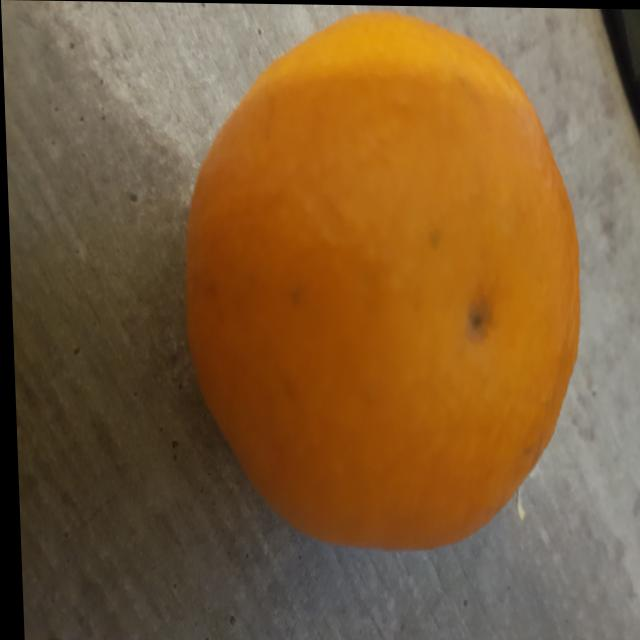Orange: (178, 10, 577, 551)
